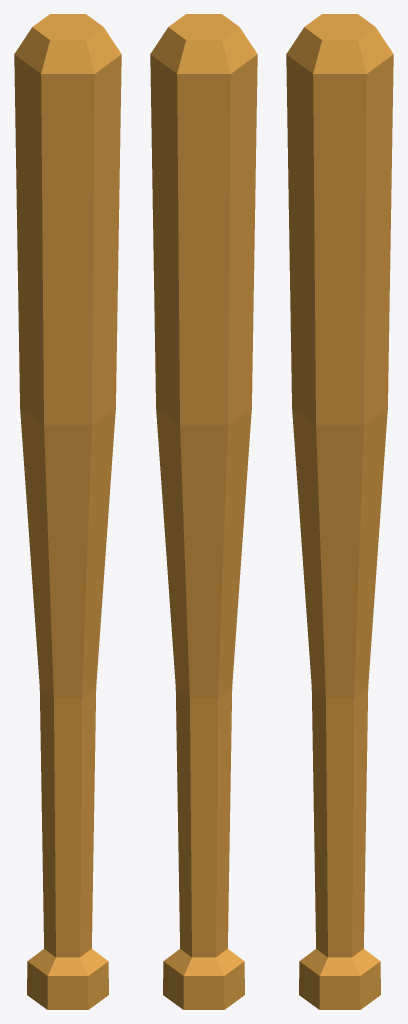
The model's file is baseball-bat.fbx.
3 views of the same model, side by side, from view 1: azimuth 90°, elevation 25°; view 2: azimuth 150°, elevation 25°; view 3: azimuth 270°, elevation 25° (orthographic).
Visible parts, largest first — view 1: baseball-bat; view 2: baseball-bat; view 3: baseball-bat.
Part boxes in pixels (x1,y1,x2,y2): baseball-bat: [14, 14, 121, 1009]; baseball-bat: [150, 14, 257, 1009]; baseball-bat: [286, 14, 393, 1009].
Size of the model in its own units: 0.0707 by 0.812 by 0.0817.
